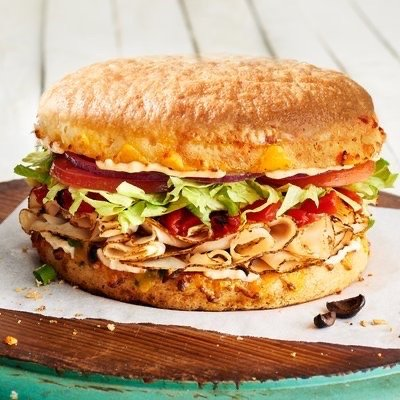soup: (20, 54, 390, 323)
